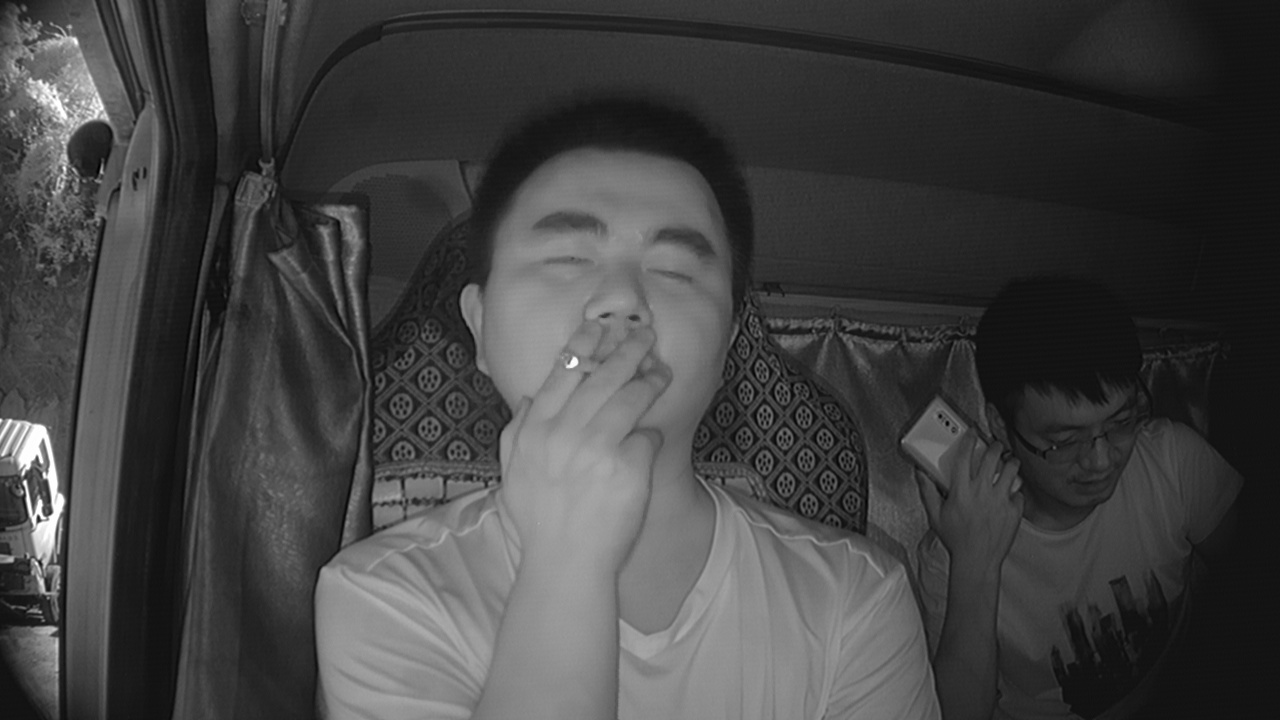hand: (512, 335, 673, 539)
